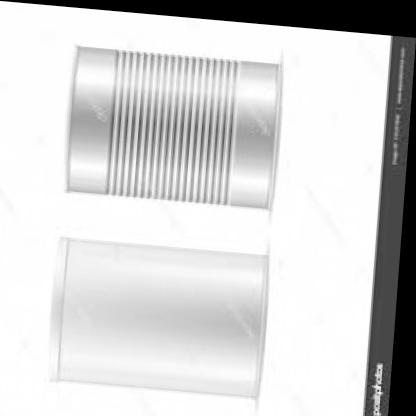trash: (68, 47, 280, 207), (58, 239, 267, 396)
